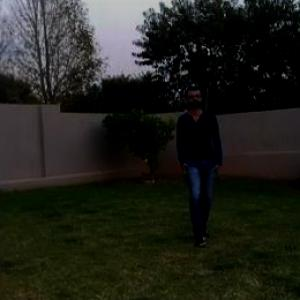follow: (171, 82, 227, 247)
